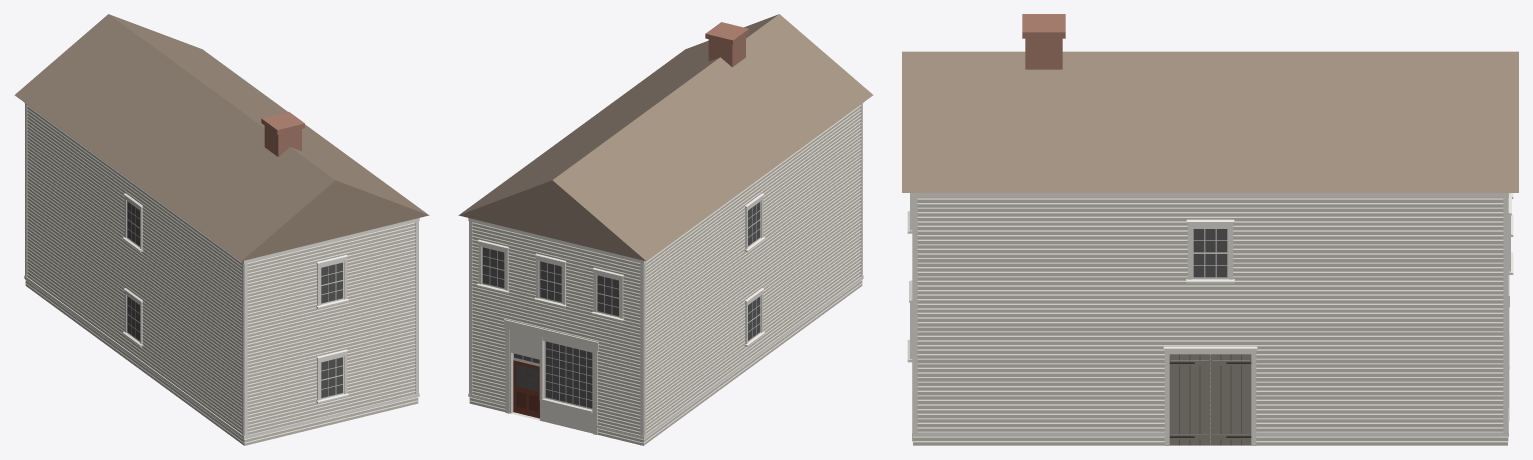
The model's file is recon_1835_core_c3_026__inferred_1835.glb.
3 views of the same model, side by side, from view 1: azimuth 30°, elevation 25°; view 2: azimuth 150°, elevation 25°; view 3: azimuth 270°, elevation 25° (orthographic). The views are drawn at different scales.
Visible parts, largest first — view 1: recon_1835_core_c3_026__inferred_1835; view 2: recon_1835_core_c3_026__inferred_1835; view 3: recon_1835_core_c3_026__inferred_1835.
Boxes of the visible parts, x1=… form: recon_1835_core_c3_026__inferred_1835: x1=14, y1=14, x2=429, y2=445; recon_1835_core_c3_026__inferred_1835: x1=458, y1=14, x2=873, y2=445; recon_1835_core_c3_026__inferred_1835: x1=902, y1=14, x2=1518, y2=445.
Bounding box in the file's own units: 6.66 × 9.08 × 13.92.
